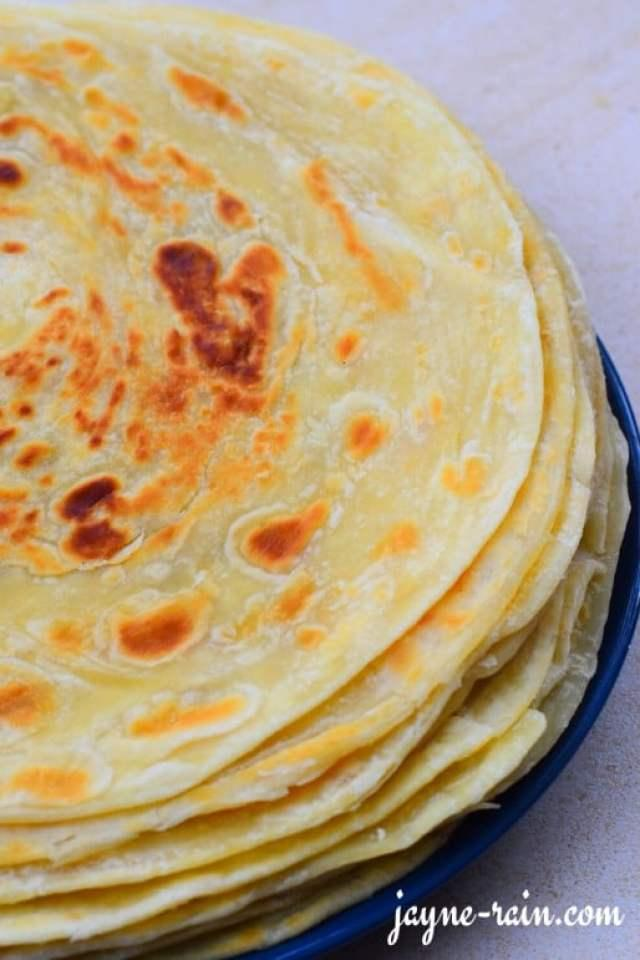chapati: (0, 9, 542, 825)
